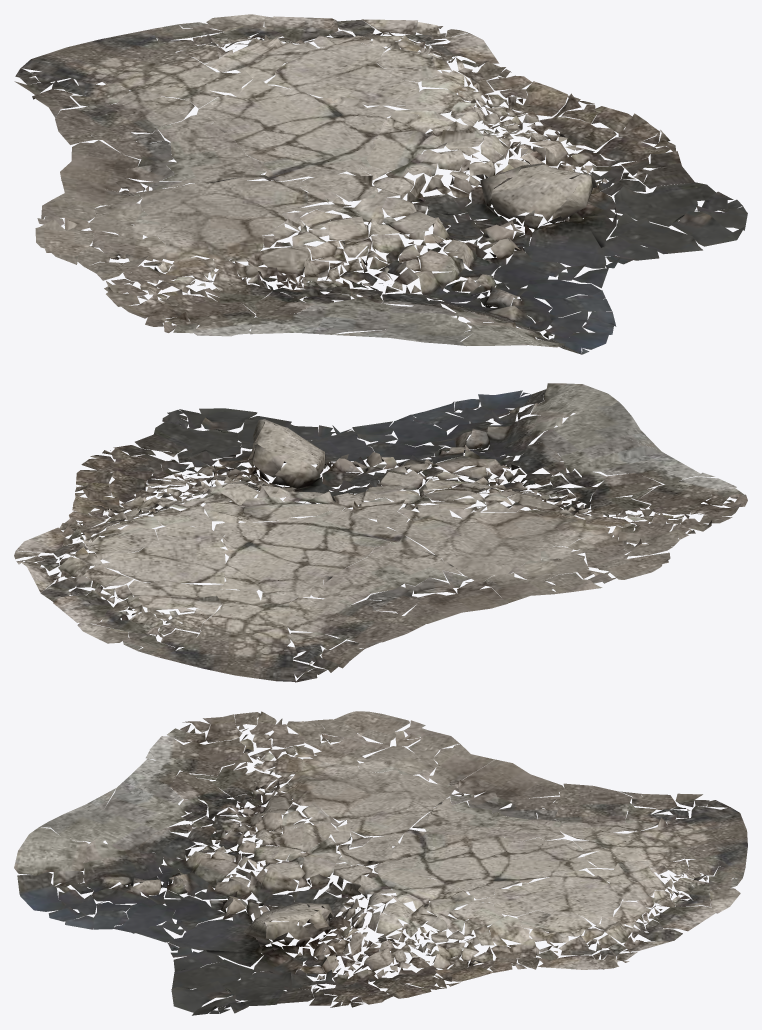
The model's file is cracked_concrete_old_3d_scan.glb.
3 renders of one model, top to bottom at view 1: azimuth 30°, elevation 25°; view 2: azimuth 150°, elevation 25°; view 3: azimuth 270°, elevation 25°, orthographic. The views are drawn at different scales.
Parts seen in each view (by area): view 1: cracked_concrete_old_3d_scan.001; view 2: cracked_concrete_old_3d_scan.001; view 3: cracked_concrete_old_3d_scan.001.
Boxes of the visible parts, bbox=[...] form: cracked_concrete_old_3d_scan.001: bbox=[14, 14, 747, 354]; cracked_concrete_old_3d_scan.001: bbox=[14, 383, 747, 682]; cracked_concrete_old_3d_scan.001: bbox=[14, 711, 747, 1015].
Size of the model in its own units: 3.05 by 0.2866 by 3.58.
Materials: 1 (1 with a texture image).
